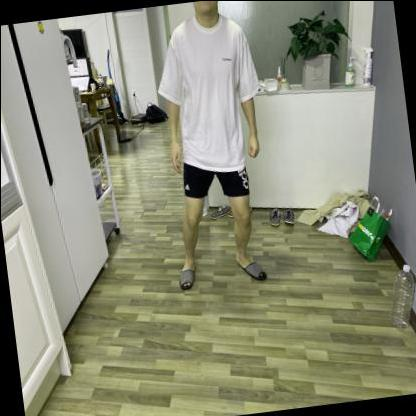no_safety-shoe: (229, 243, 272, 290), (172, 254, 204, 292)
